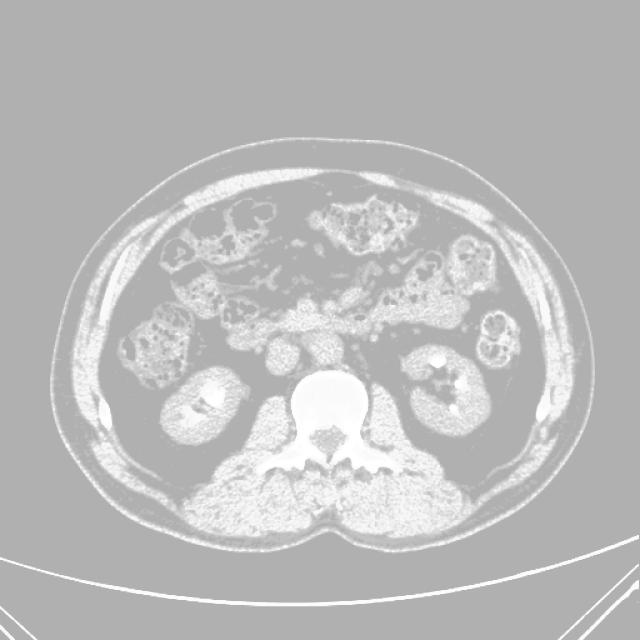STONE: (87, 266, 526, 496)
